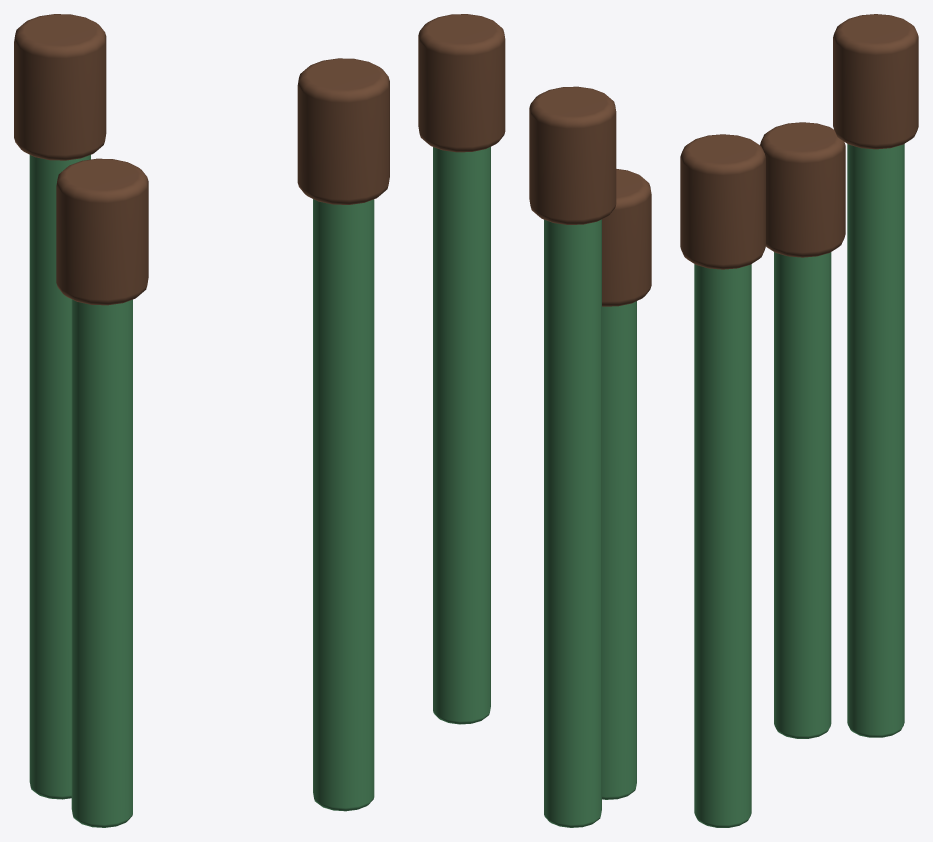
Rendered from prop_uw_reeds_b.glb.
3 views of the same model, side by side, from view 1: azimuth 30°, elevation 25°; view 2: azimuth 150°, elevation 25°; view 3: azimuth 270°, elevation 25° (orthographic). The views are drawn at different scales.
Parts seen in each view (by area): view 1: uwrb_s0, uwrb_s1, uwrb_s2, uwrb_h2, uwrb_h0, uwrb_h1; view 2: uwrb_s2, uwrb_s0, uwrb_s1, uwrb_h0, uwrb_h2, uwrb_h1; view 3: uwrb_s2, uwrb_s0, uwrb_s1, uwrb_h0, uwrb_h2, uwrb_h1.
Boxes of the visible parts, x1,y1,x2,y2 form: uwrb_s0: [313, 199, 374, 811]; uwrb_s1: [71, 299, 132, 827]; uwrb_s2: [29, 155, 90, 799]; uwrb_h2: [14, 14, 106, 160]; uwrb_h0: [297, 58, 389, 204]; uwrb_h1: [56, 158, 148, 305]; uwrb_s2: [544, 219, 601, 827]; uwrb_s0: [433, 147, 490, 724]; uwrb_s1: [602, 301, 636, 799]; uwrb_h0: [418, 14, 505, 152]; uwrb_h2: [529, 86, 616, 224]; uwrb_h1: [602, 169, 651, 306]; uwrb_s2: [847, 144, 904, 737]; uwrb_s0: [694, 264, 751, 827]; uwrb_s1: [774, 252, 831, 738]; uwrb_h0: [680, 134, 765, 269]; uwrb_h2: [833, 14, 918, 149]; uwrb_h1: [760, 122, 845, 257].
Size of the model in its own units: 0.335 by 0.8633 by 0.2672.
